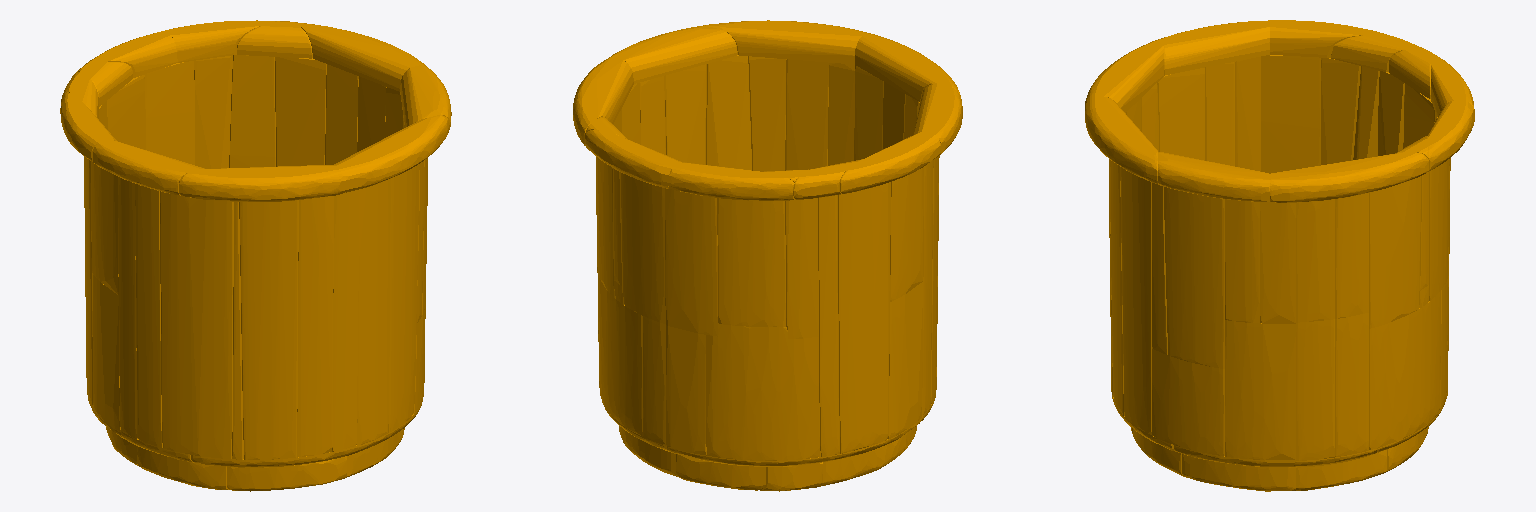
robot.urdf — 065-e_cups:
<?xml version="1.0" encoding="UTF-8"?>
<robot name="065-e_cups">
	<link name="base">
		<collision>
			<geometry>
				<mesh filename="..\vhacd\065-e_cups_vhacd.obj" scale="1.0 1.0 1.0"/>
			</geometry>
			<origin xyz="0 0 0"/>
			<contact_coefficients mu="0.24" />
		</collision>
		<visual>
			<geometry>
				<mesh filename="..\vhacd\065-e_cups_vhacd.obj" scale="1.0 1.0 1.0"/>
			</geometry>
			<origin xyz="0 0 0"/>
		</visual>
		<inertial>
			<mass value="0"/>
			<inertia ixx="0.0" ixy="0.0" ixz="0.0" iyy="0.0" iyz="0.0" izz="0.0" />
			<origin xyz="-0.019152018754218177 -0.07367966959154924 0.03039563035532366"/>
		</inertial>
	</link>
</robot>

--- Render facts (derived) ---
3 views of the same robot in one strip: view 1: azimuth 30°, elevation 25°; view 2: azimuth 150°, elevation 25°; view 3: azimuth 270°, elevation 25° (orthographic).
Model 065-e_cups with 1 links and 0 joints (none), rooted at base, posed every joint at zero.
Visible links, largest first — view 1: base; view 2: base; view 3: base.
Link boxes in pixels (box(x1,y1,x2,y2)): base: box(60, 20, 451, 491); base: box(573, 20, 962, 491); base: box(1085, 20, 1474, 491).
Bounding box of the posed robot: 0.0758 × 0.0755 × 0.0709 m (x, y, z).
1 mesh visuals loaded from 1 distinct referenced files (1 OBJ).